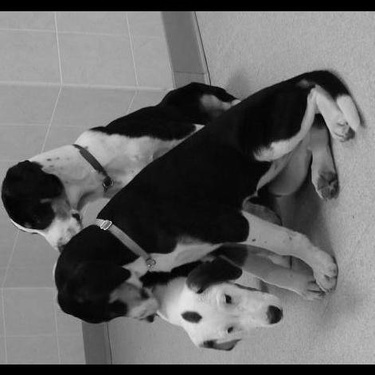dog: (48, 65, 366, 327), (1, 76, 245, 256), (112, 177, 296, 348)
